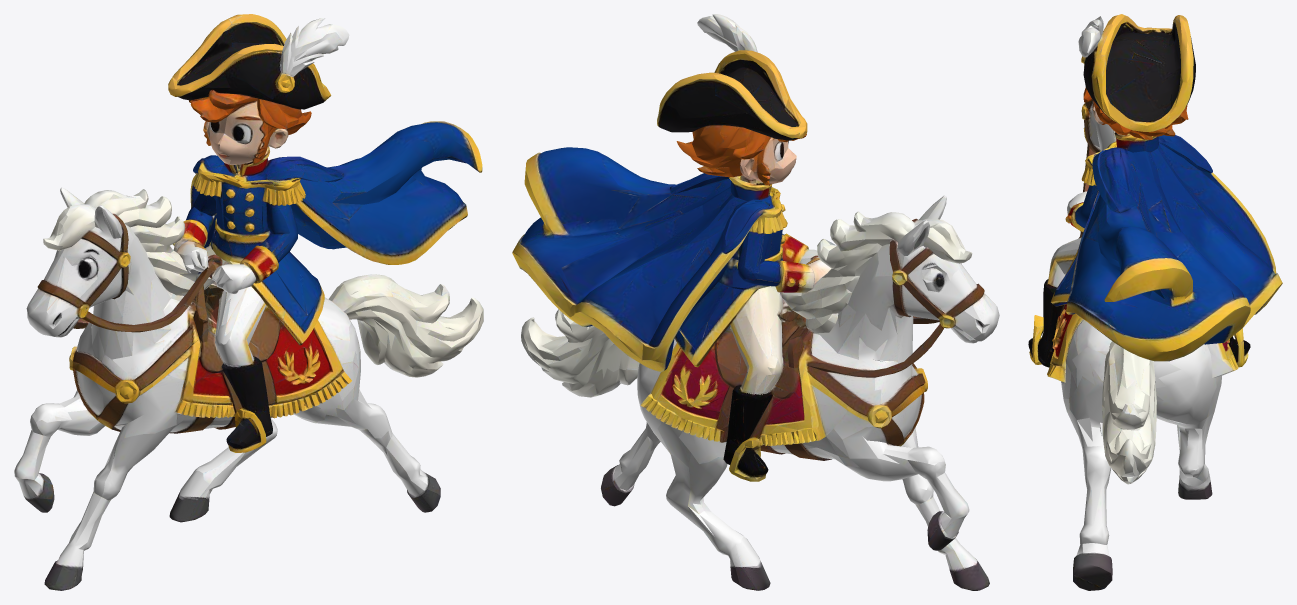
Rendered from jinete.glb.
3 renders of one model, left to right at view 1: azimuth 30°, elevation 25°; view 2: azimuth 150°, elevation 25°; view 3: azimuth 270°, elevation 25°, orthographic.
Size of the model in its own units: 1.78 by 1.9 by 0.8427.
1 material, 1 textured.
